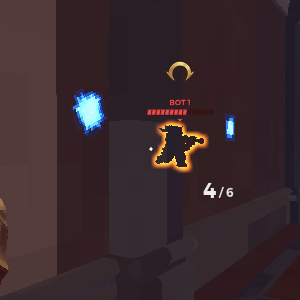model: (157, 120, 196, 175)
